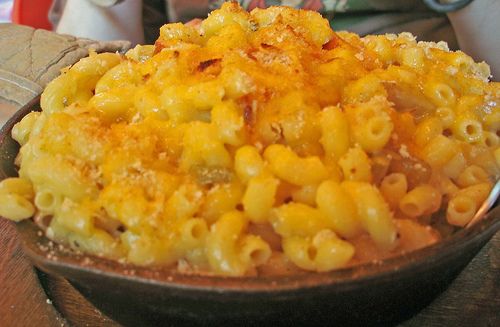macncheese: (8, 8, 500, 279)
